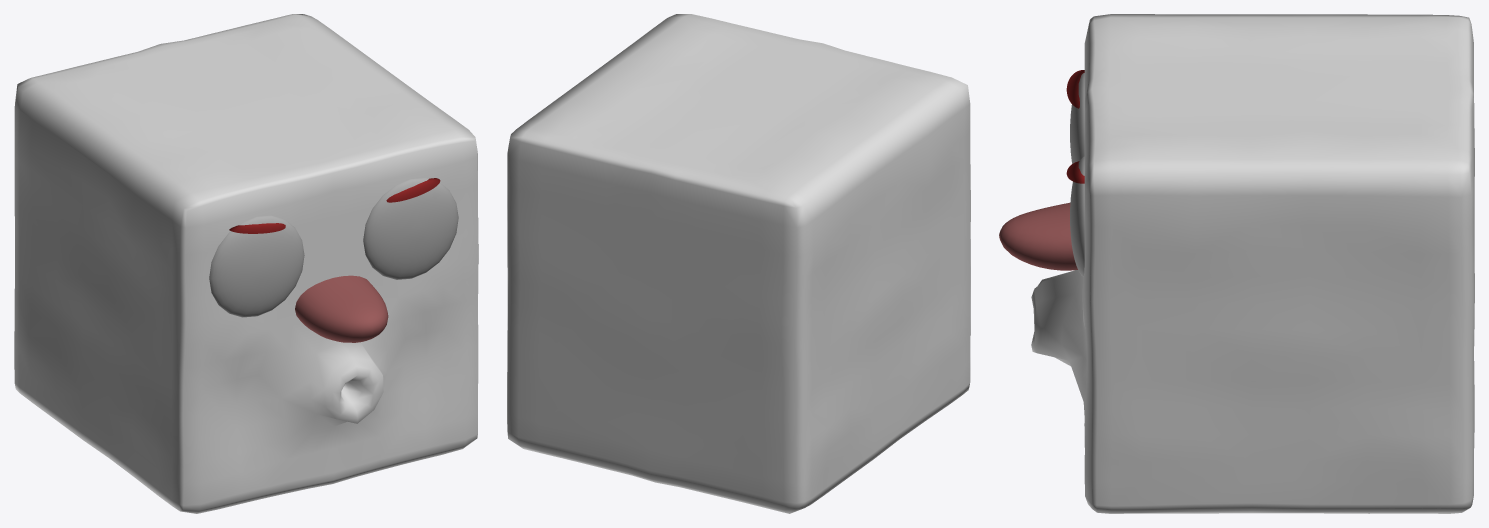
File: faceWhistle.fbx
The picture shows the model from 3 angles, left to right: view 1: azimuth 30°, elevation 25°; view 2: azimuth 150°, elevation 25°; view 3: azimuth 270°, elevation 25°; orthographic projection. The views are drawn at different scales.
Visible parts, largest first — view 1: faceWhistle; view 2: faceWhistle; view 3: faceWhistle.
Boxes of the visible parts, x1,y1,x2,y2 form: faceWhistle: [14, 14, 478, 513]; faceWhistle: [507, 14, 970, 513]; faceWhistle: [999, 14, 1474, 513].
Size of the model in its own units: 102 by 102 by 123.
